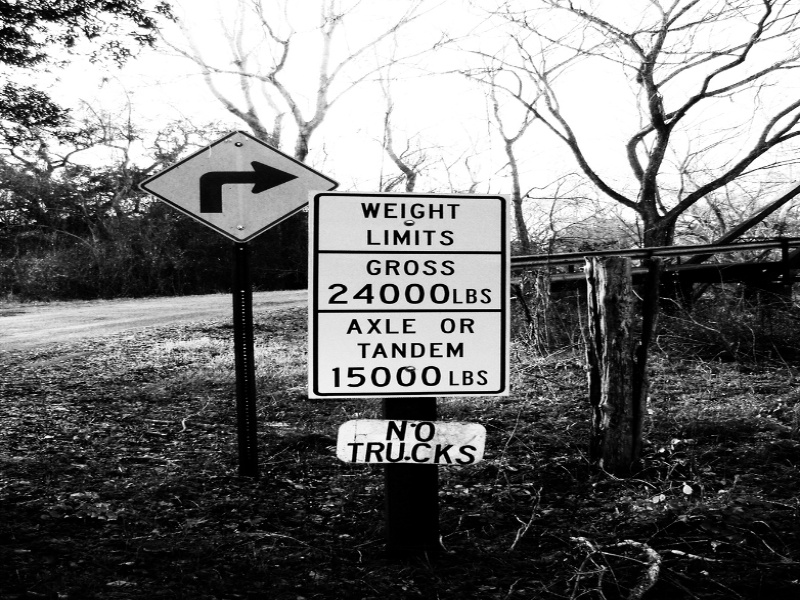right_turn_ahead: (139, 128, 341, 247)
